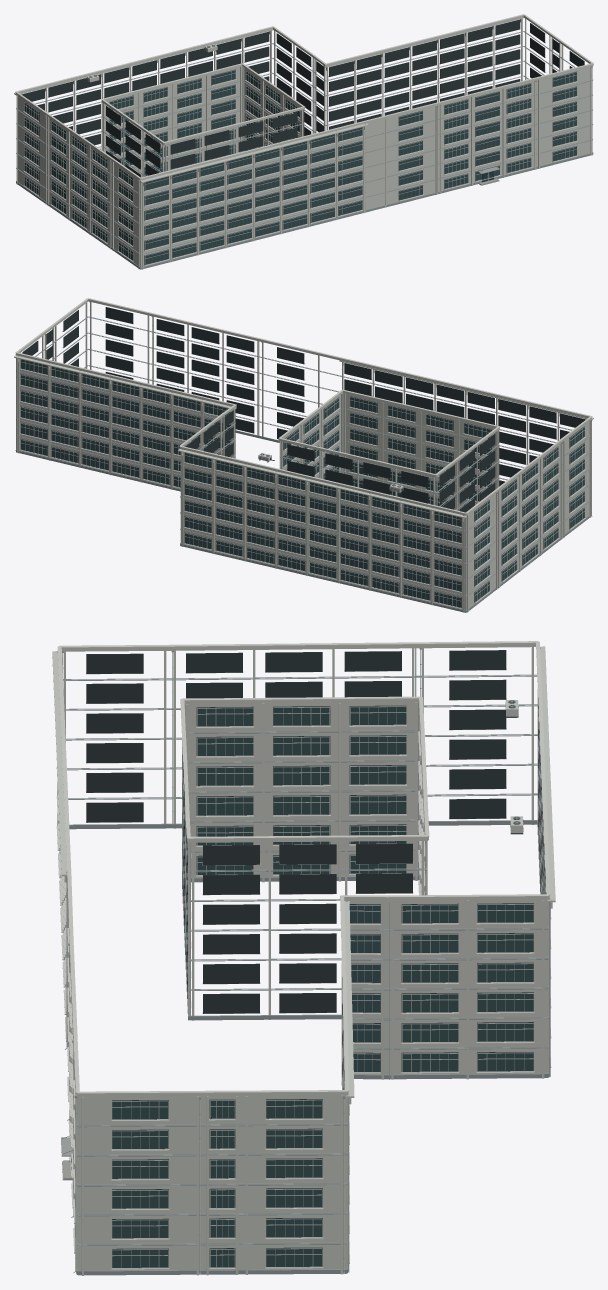
File: osm_way_223699454.glb
3 renders of one model, top to bottom at view 1: azimuth 30°, elevation 25°; view 2: azimuth 150°, elevation 25°; view 3: azimuth 270°, elevation 25°, orthographic. The views are drawn at different scales.
Visible parts, largest first — view 1: Windows and facade details | 教5, Architecture | 教5, Roof services | 教5, EXTERIOR::osm_way_223699454::rainwater and roof service deta; view 2: Windows and facade details | 教5, Architecture | 教5, Roof services | 教5, EXTERIOR::osm_way_223699454::rainwater and roof service deta; view 3: Windows and facade details | 教5, Architecture | 教5, Roof services | 教5, EXTERIOR::osm_way_223699454::rainwater and roof service deta.
Part boxes in pixels (left/top/right/bottom): Windows and facade details | 教5: left=21, top=19, right=584, bottom=269; Architecture | 教5: left=15, top=15, right=593, bottom=269; Roof services | 教5: left=14, top=14, right=593, bottom=185; EXTERIOR::osm_way_223699454::rainwater and roof service deta: left=45, top=44, right=592, bottom=268; Windows and facade details | 教5: left=16, top=307, right=585, bottom=608; Architecture | 教5: left=16, top=299, right=591, bottom=612; Roof services | 教5: left=14, top=298, right=593, bottom=521; EXTERIOR::osm_way_223699454::rainwater and roof service deta: left=15, top=301, right=592, bottom=612; Windows and facade details | 教5: left=56, top=648, right=551, bottom=1272; Architecture | 教5: left=58, top=643, right=549, bottom=1275; Roof services | 教5: left=52, top=641, right=555, bottom=1104; EXTERIOR::osm_way_223699454::rainwater and roof service deta: left=62, top=647, right=540, bottom=1274.
Bounding box in the file's own units: 121 × 23.58 × 56.82.
